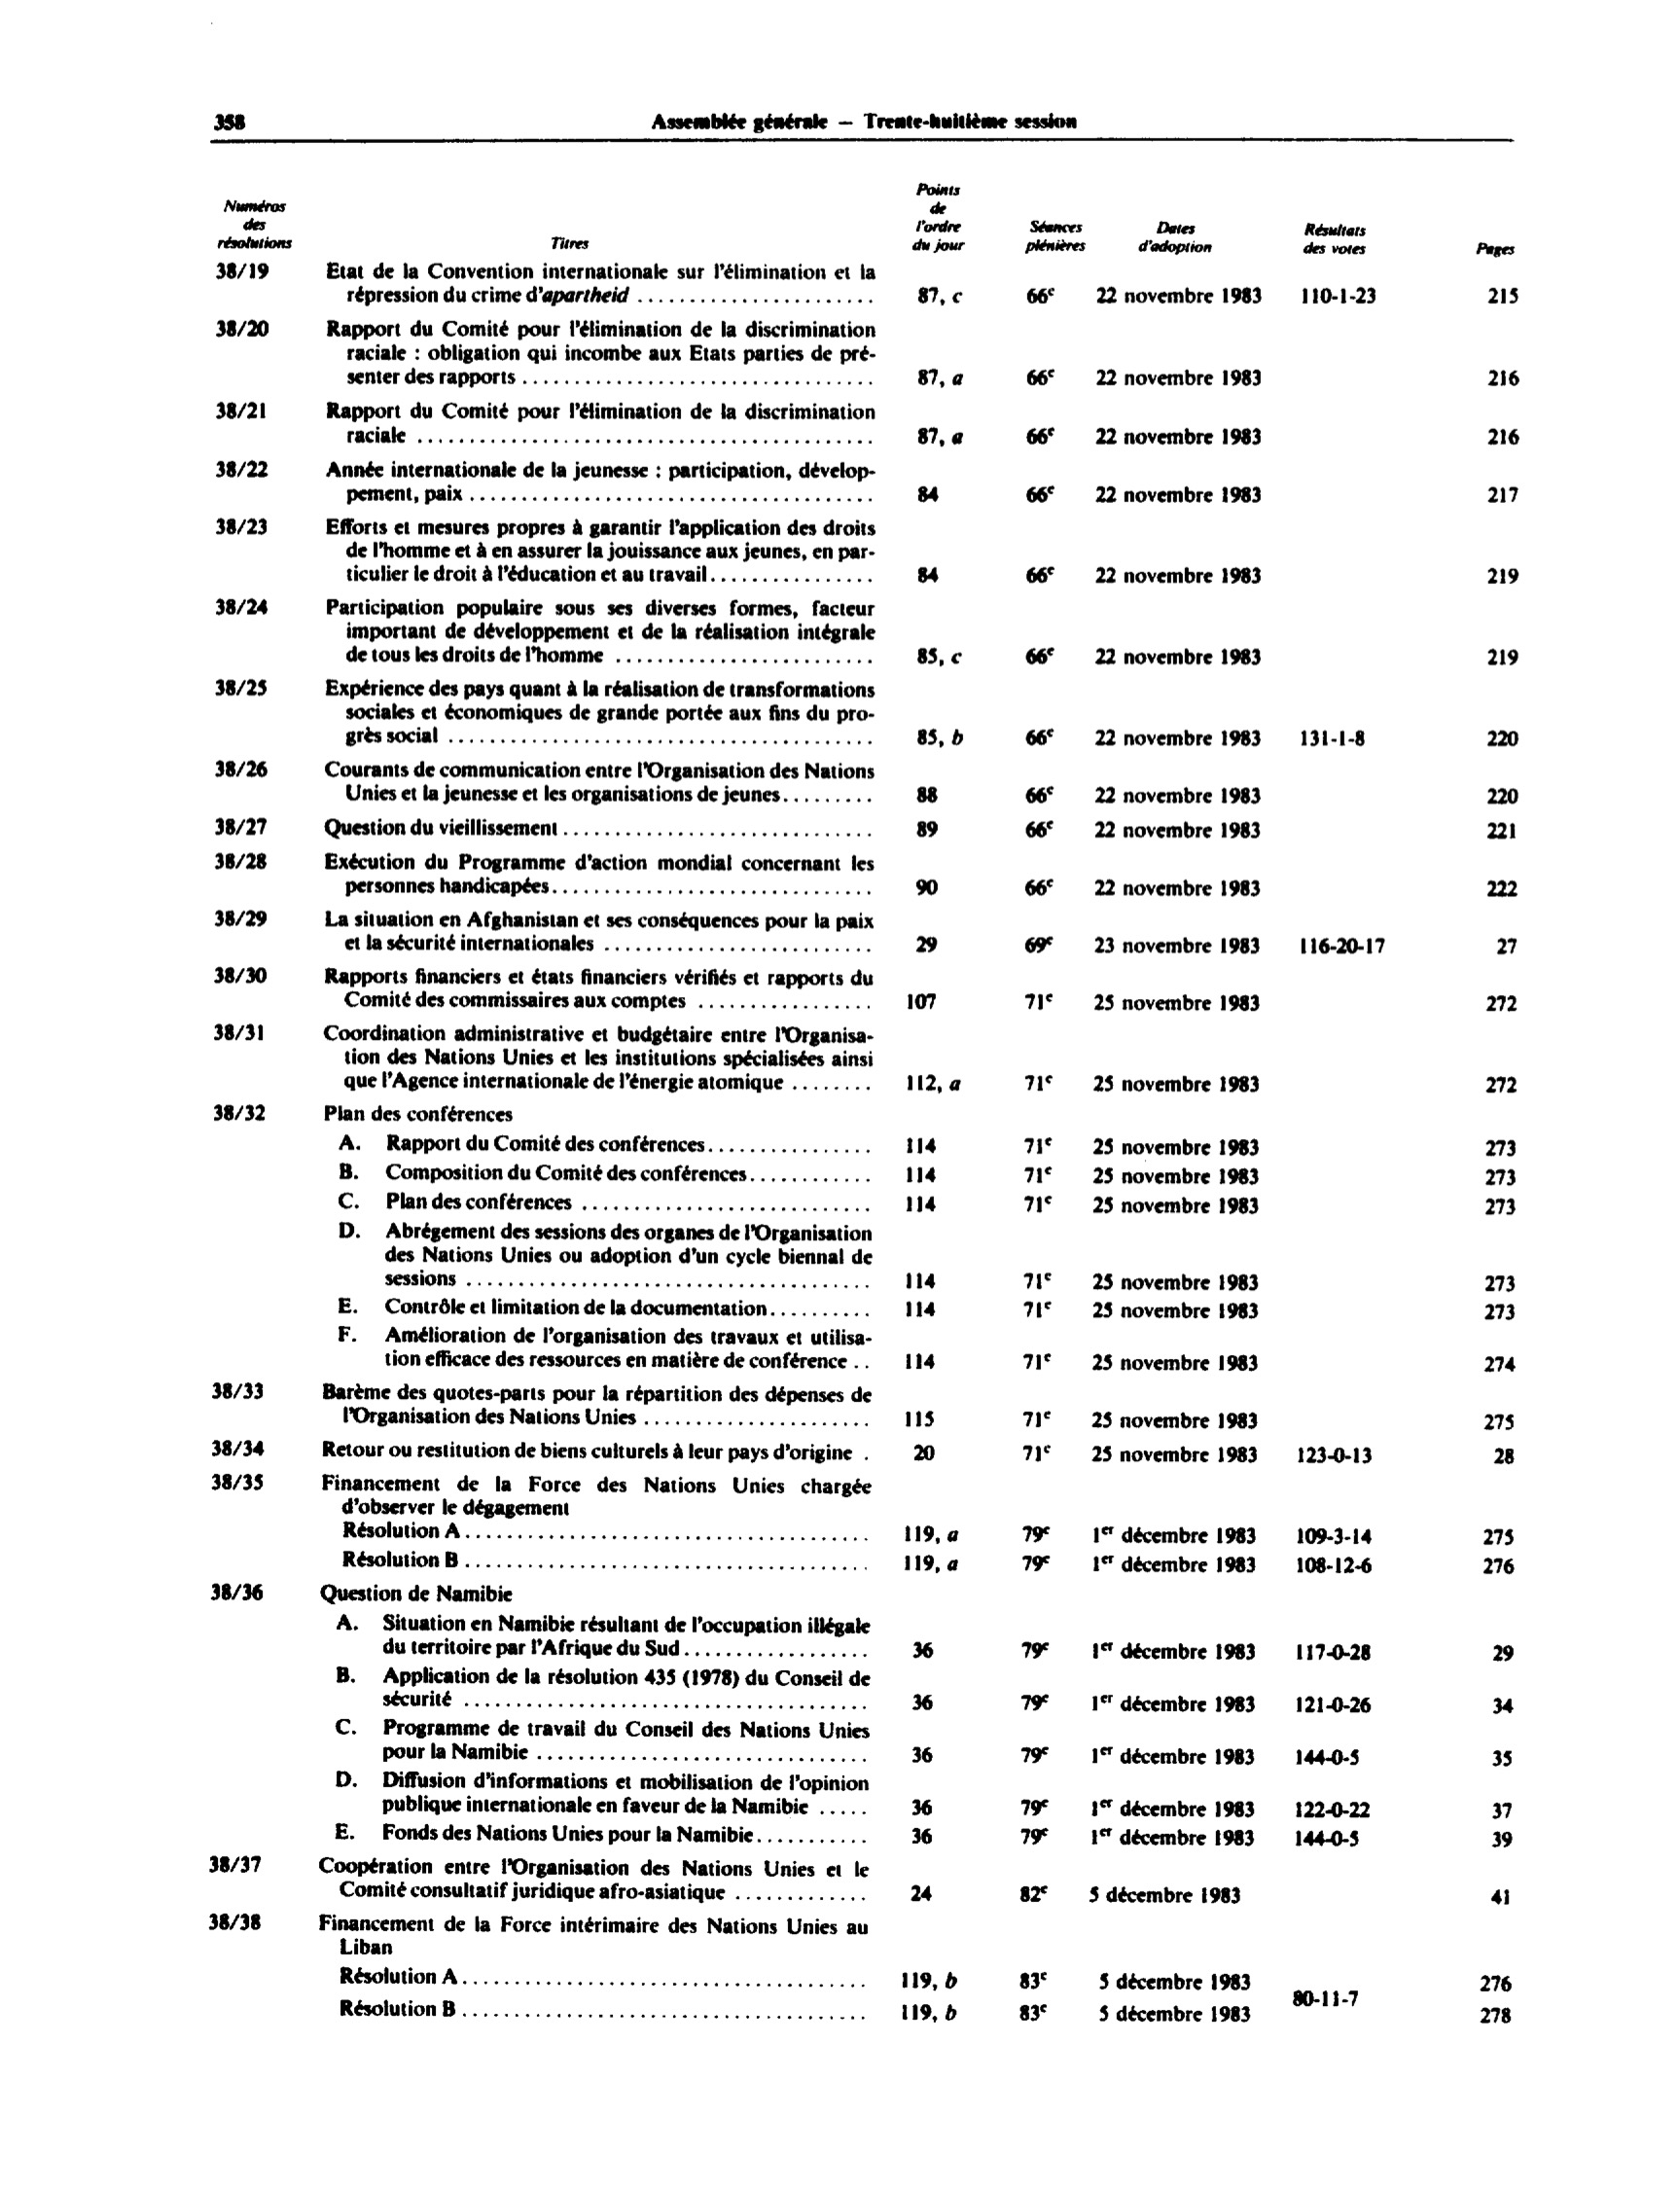QuireMarksZone: (198, 161, 1534, 2048)
StampZone: (642, 101, 1089, 141)
TitlePageZone: (203, 104, 258, 145)
